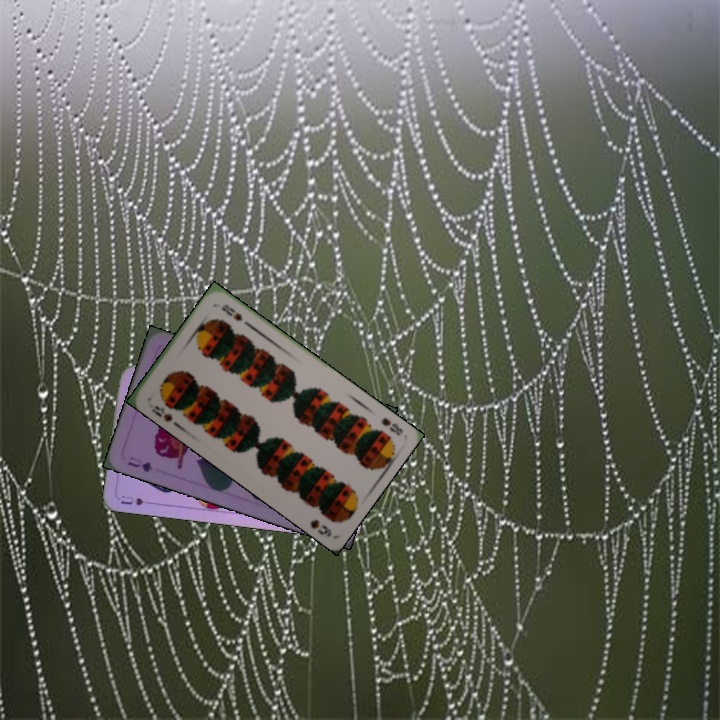GU: (123, 452, 155, 475)
S8: (377, 413, 406, 438), (148, 401, 175, 424)
SU: (117, 491, 157, 508)
